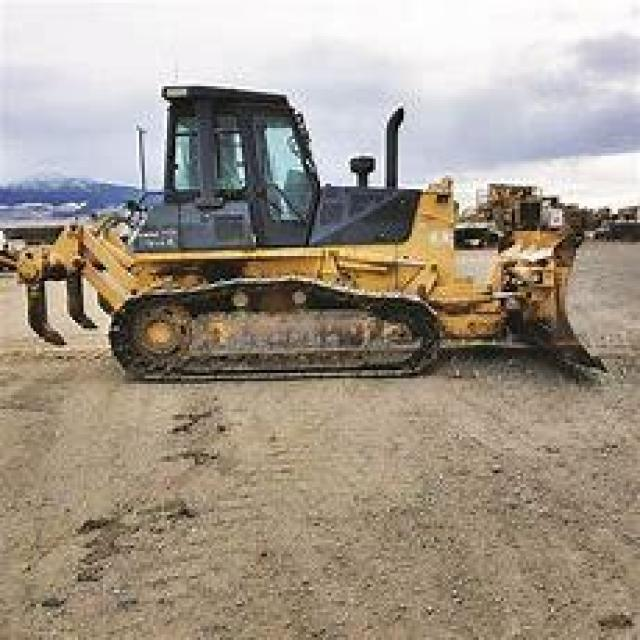Bulldozer: (6, 70, 612, 390)
